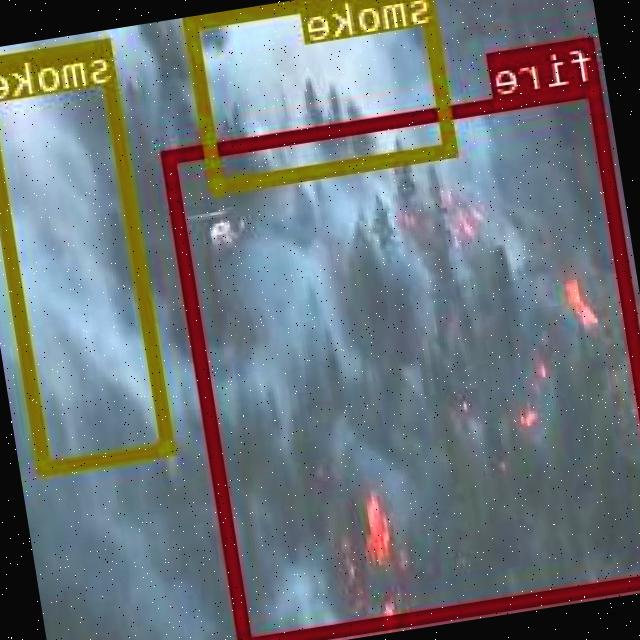fire: (165, 80, 640, 640)
smoke: (0, 35, 176, 472), (185, 0, 462, 192)
